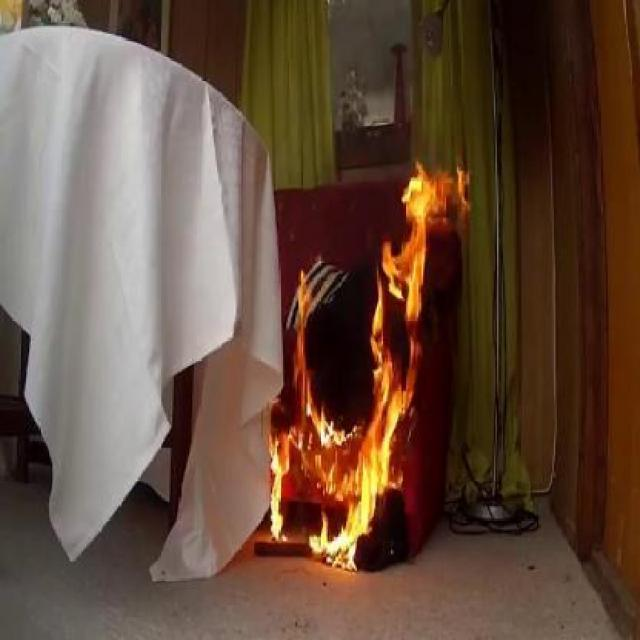fire: (270, 92, 476, 590)
